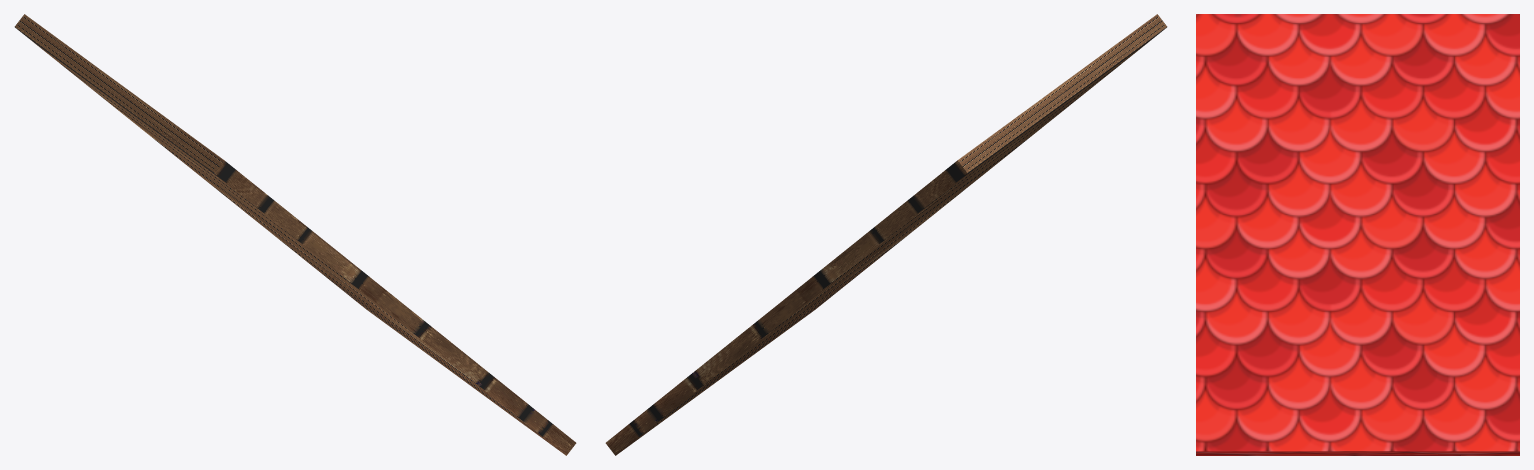
File: loongroof.glb
3 views of the same model, side by side, from view 1: azimuth 30°, elevation 25°; view 2: azimuth 150°, elevation 25°; view 3: azimuth 270°, elevation 25° (orthographic). The views are drawn at different scales.
Parts seen in each view (by area): view 1: LongRoof; view 2: LongRoof; view 3: LongRoof.
Boxes of the visible parts, x1,y1,x2,y2 form: LongRoof: [14, 14, 576, 455]; LongRoof: [605, 14, 1167, 455]; LongRoof: [1196, 14, 1519, 455].
Bounding box in the file's own units: 2.09 × 2.09 × 2.
1 material, 1 textured.
